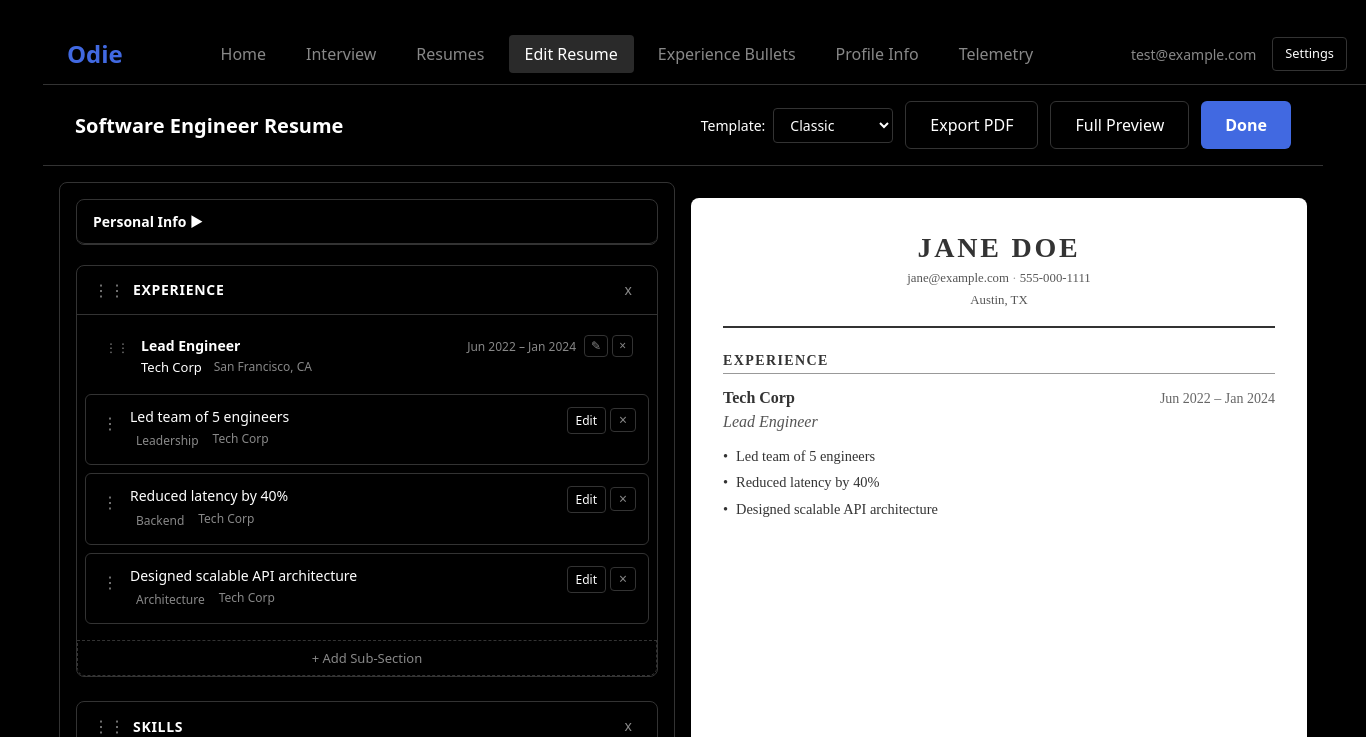
it: ResumeBuilderPage › PersonalInfoPanel › should optimistically update candidateInfo displayName in local state after save
Note: Open panel
Click the button with test id "btn-toggle-personal-info" at (141, 222), box [77, 200, 657, 244]
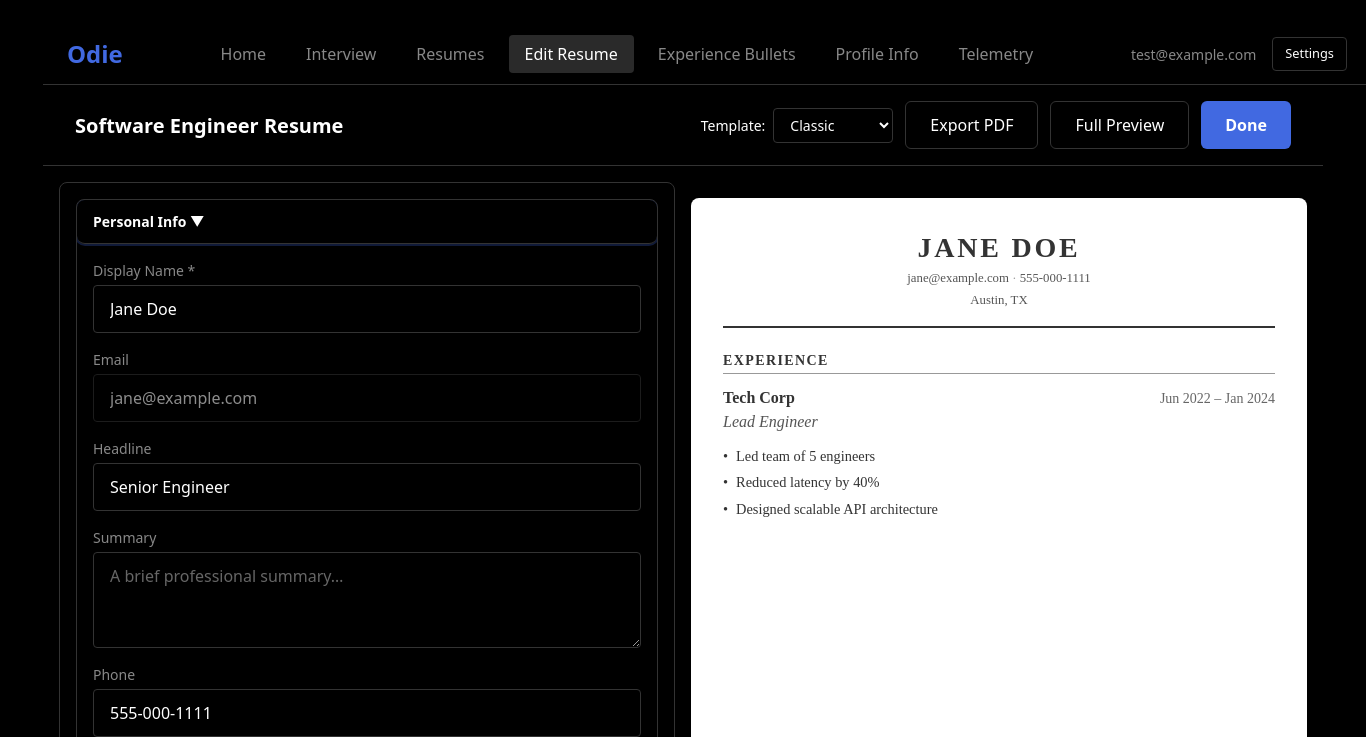
Check: the field with test id "input-display-name" is shown
Note: Change display name
Replace the text in the field with test id "input-display-name" with "John Updated" at (367, 309), box [93, 285, 641, 333]
(page scrolled)
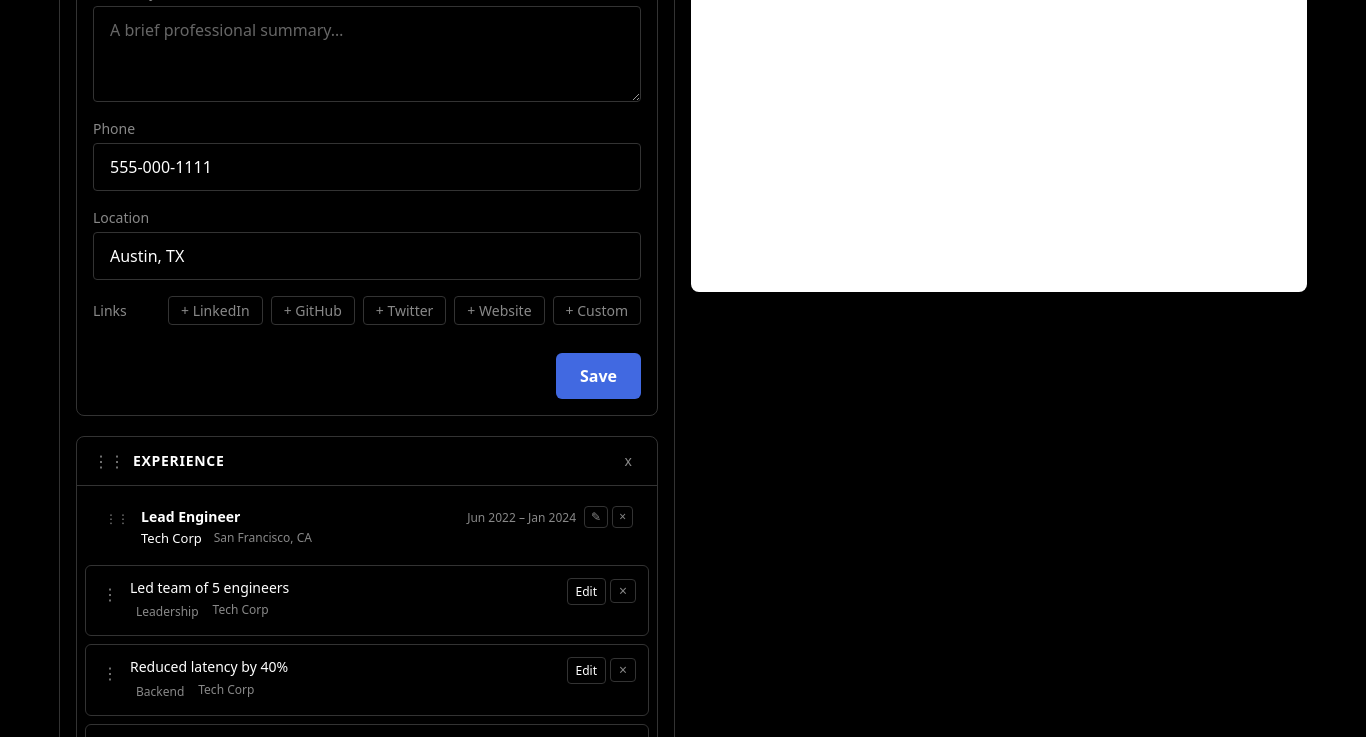
Click the button with test id "btn-save-profile" at (598, 376), box [556, 353, 641, 399]
(page scrolled)
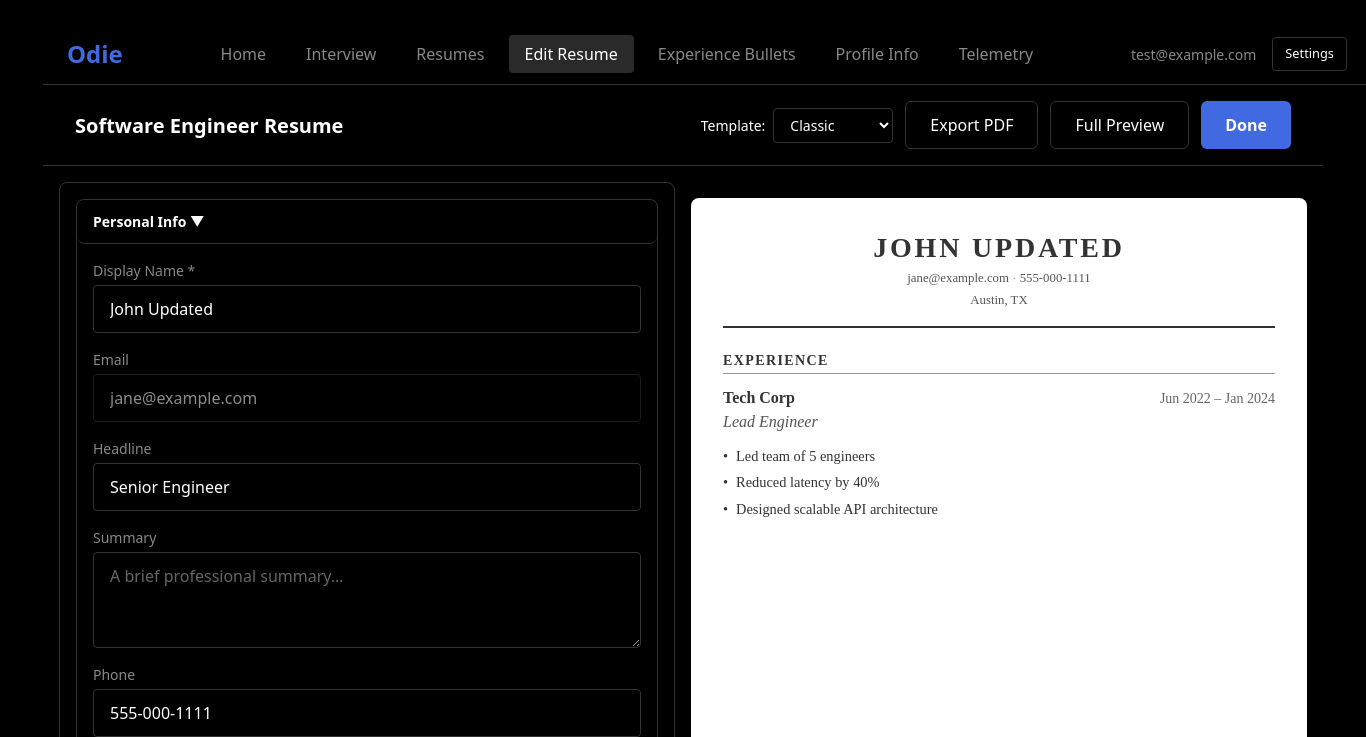
Note: Close and reopen — the panel should show updated value
Click the button with test id "btn-toggle-personal-info" at (141, 222), box [77, 200, 657, 244]
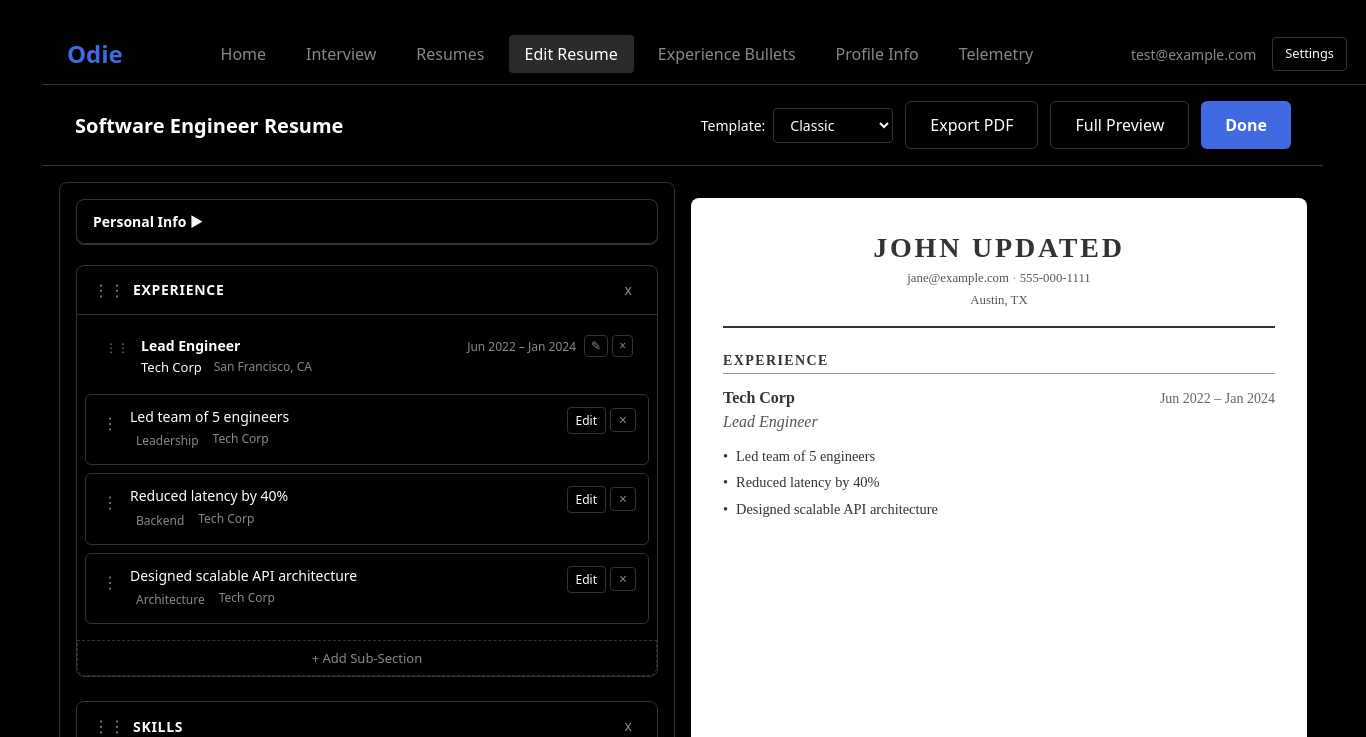
Click the button with test id "btn-toggle-personal-info" at (141, 222), box [77, 200, 657, 244]
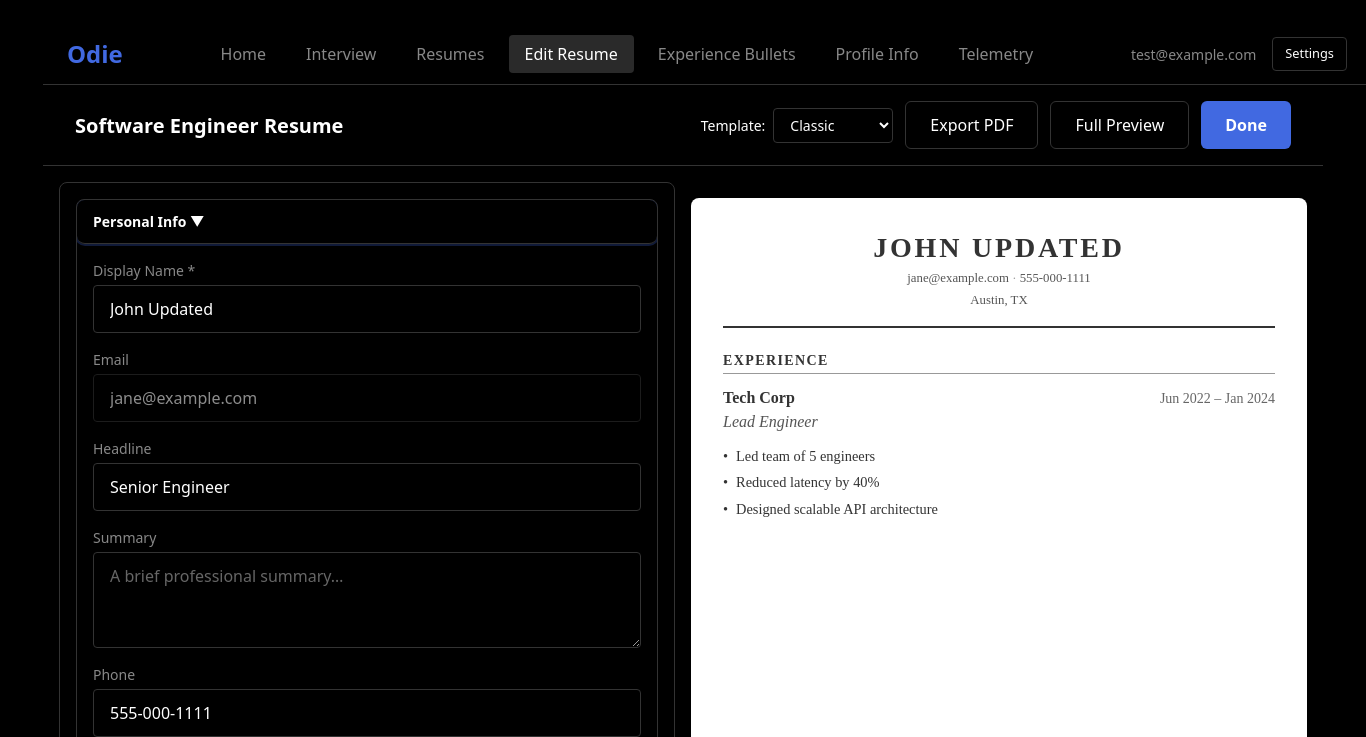
Check: the field with test id "input-display-name" holds "John Updated", box [93, 285, 641, 333]
